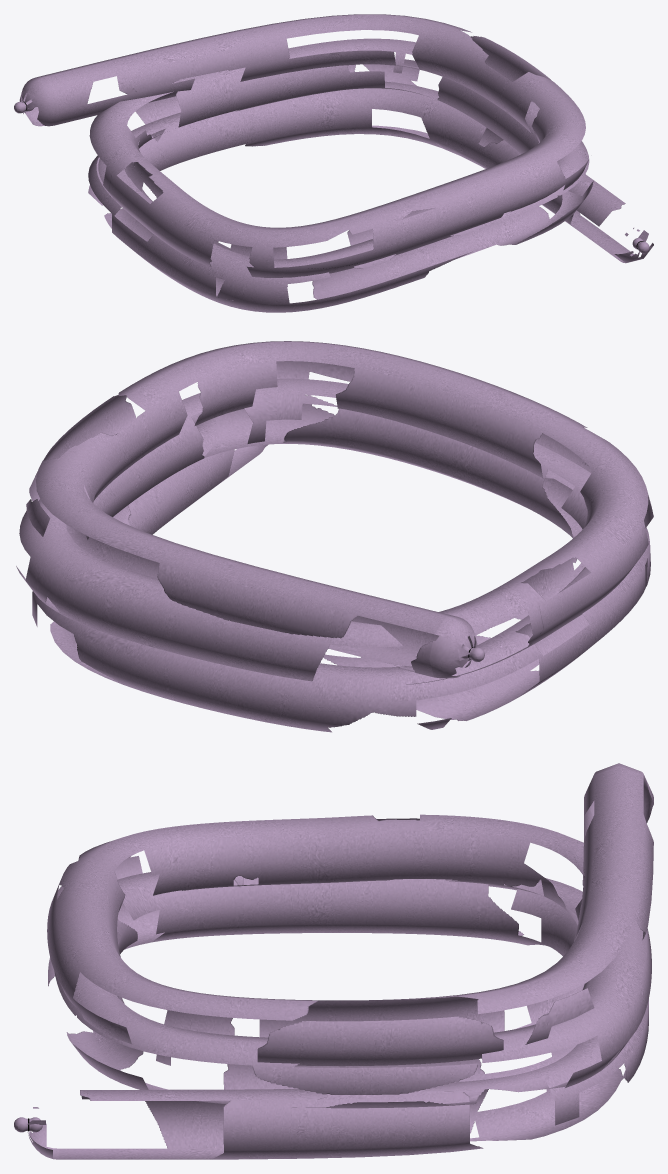
File: MESH_SALSICCIOTTO_ONEDRIVE.fbx
3 renders of one model, top to bottom at view 1: azimuth 30°, elevation 25°; view 2: azimuth 150°, elevation 25°; view 3: azimuth 270°, elevation 25°, orthographic. The views are drawn at different scales.
Parts seen in each view (by area): view 1: Mball.009; view 2: Mball.009; view 3: Mball.009.
Part boxes in pixels (x1,y1,x2,y2): Mball.009: [14, 14, 653, 312]; Mball.009: [16, 341, 653, 732]; Mball.009: [14, 763, 653, 1159].
Bounding box in the file's own units: 2.37 × 0.6217 × 2.38.
Materials: 3 (2 with a texture image).
